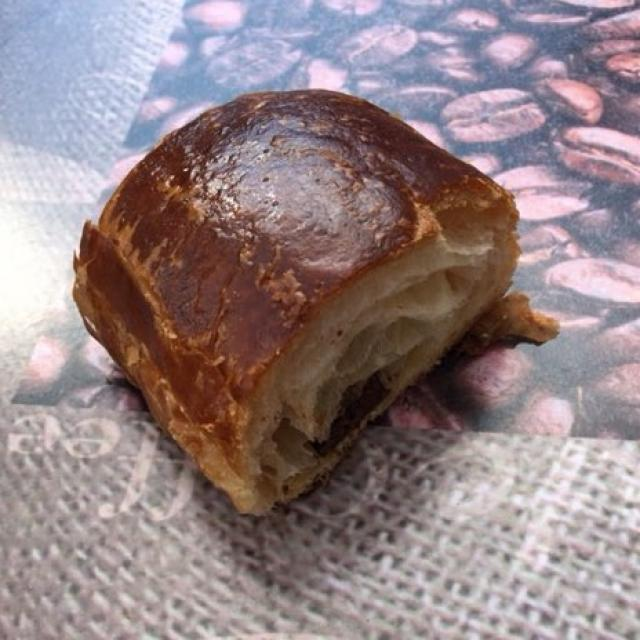croissant-with-chocolate-filling: (77, 97, 532, 501)
